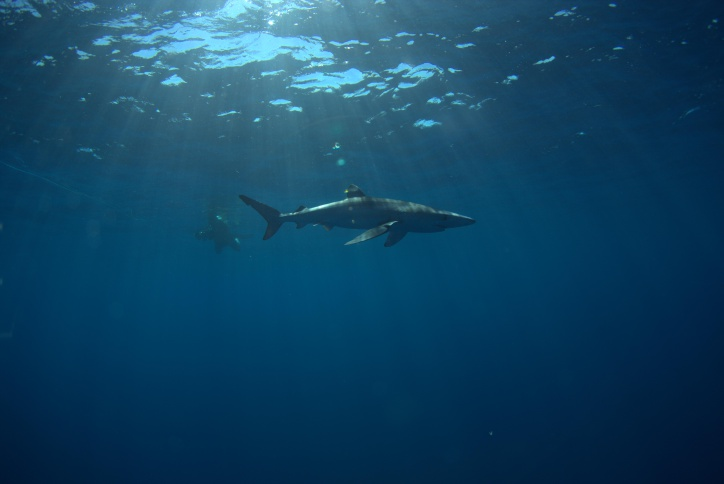Azul: (27, 134, 676, 442), (239, 172, 502, 277)
